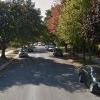Tree: (4, 0, 85, 50)
